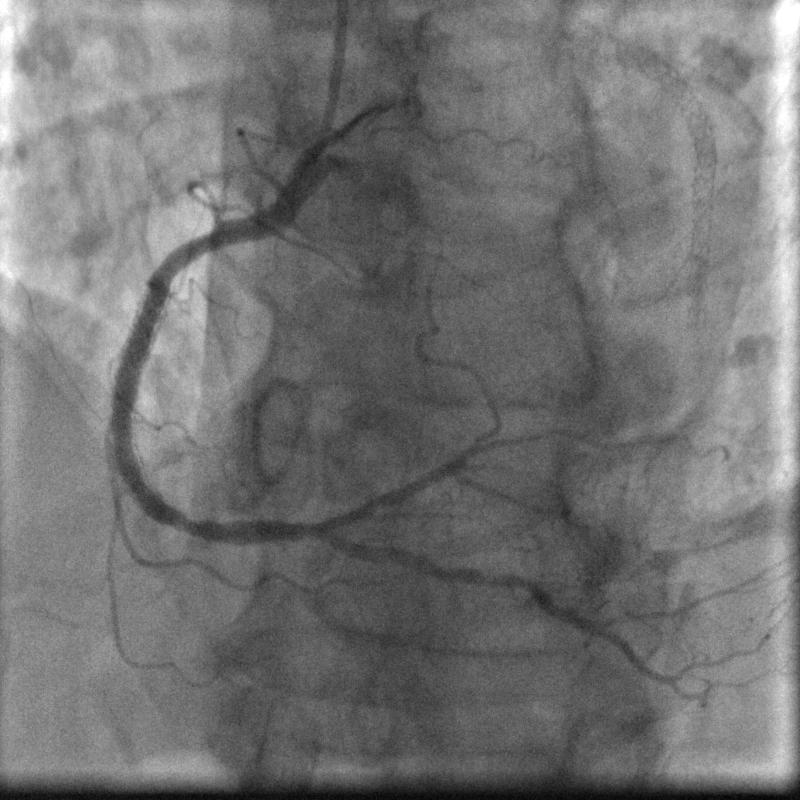Stenosis: (156, 231, 212, 275)
